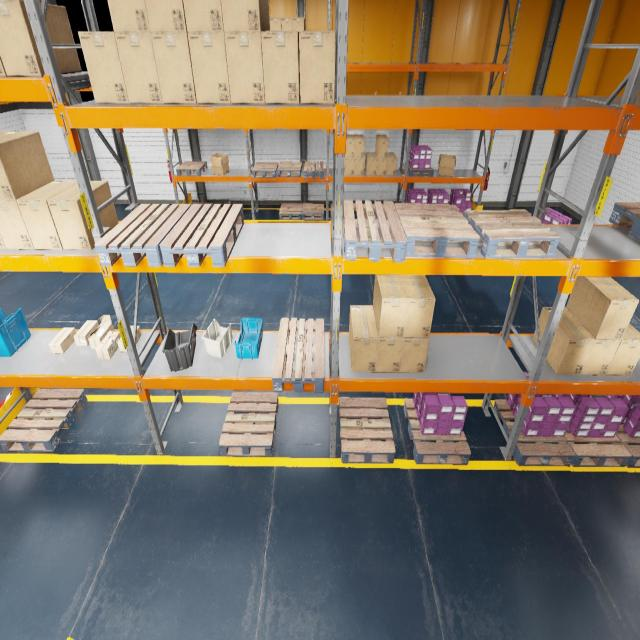box: (0, 0, 82, 76), (47, 180, 118, 250), (566, 276, 639, 340), (16, 180, 77, 250), (532, 307, 595, 374), (0, 130, 54, 200), (566, 308, 621, 374), (78, 32, 129, 103), (114, 32, 163, 103), (150, 32, 197, 104), (187, 32, 231, 104), (224, 32, 265, 104), (261, 31, 300, 104), (299, 31, 336, 104), (372, 274, 408, 338), (402, 275, 436, 337), (348, 305, 378, 372), (374, 314, 404, 372), (606, 324, 640, 375), (0, 200, 34, 249), (221, 0, 269, 31), (107, 0, 150, 32), (145, 0, 187, 32), (183, 0, 223, 31), (400, 337, 429, 372), (88, 314, 114, 348), (49, 327, 76, 353), (73, 320, 99, 346), (96, 331, 120, 358), (118, 326, 142, 351), (210, 153, 229, 175), (438, 154, 456, 177), (375, 135, 389, 157), (375, 153, 387, 175), (365, 153, 377, 175), (386, 153, 397, 175), (344, 135, 355, 157), (354, 135, 364, 157), (292, 18, 305, 32), (354, 158, 364, 175), (344, 158, 354, 175), (269, 17, 281, 30), (281, 17, 292, 30), (0, 55, 7, 75), (0, 234, 6, 249), (269, 18, 270, 26), (344, 157, 344, 175)
pallets: (94, 203, 190, 267), (493, 399, 575, 466), (0, 388, 87, 451), (160, 204, 244, 267), (394, 203, 480, 258), (464, 210, 560, 258), (404, 398, 471, 465), (343, 200, 407, 262), (272, 318, 324, 392), (219, 392, 278, 457), (339, 397, 396, 463), (564, 427, 631, 467), (608, 202, 640, 240), (616, 424, 640, 467), (176, 162, 207, 176), (404, 162, 434, 176), (252, 162, 278, 178), (279, 203, 302, 220), (302, 203, 324, 220), (191, 202, 213, 218), (277, 162, 302, 176), (304, 162, 323, 178), (330, 204, 343, 221), (374, 212, 377, 218), (461, 212, 464, 217)
